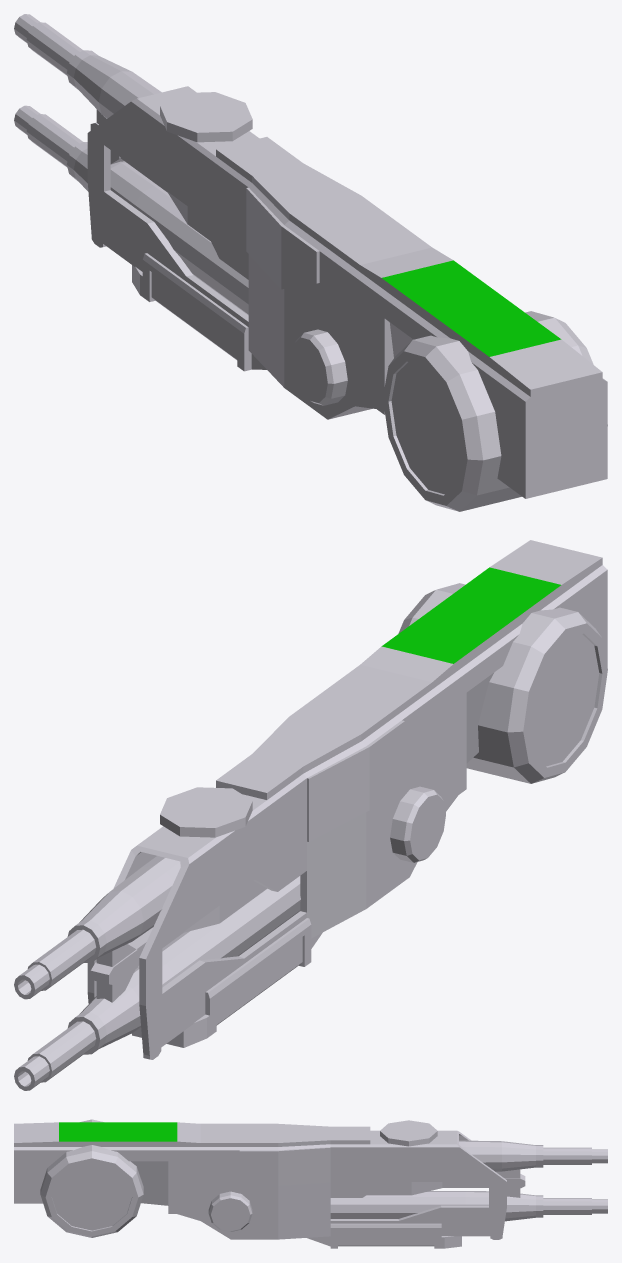
The model's file is hardpoitn.gun.dual.fbx.
3 renders of one model, top to bottom at view 1: azimuth 30°, elevation 25°; view 2: azimuth 150°, elevation 25°; view 3: azimuth 270°, elevation 25°, orthographic. The views are drawn at different scales.
Parts seen in each view (by area): view 1: hardpoitn.gun.dual; view 2: hardpoitn.gun.dual; view 3: hardpoitn.gun.dual.
Part boxes in pixels (<box>): hardpoitn.gun.dual: <box>14,14,607,511</box>; hardpoitn.gun.dual: <box>14,540,607,1090</box>; hardpoitn.gun.dual: <box>14,1119,607,1248</box>.
Size of the model in its own units: 0.2855 by 0.386 by 1.91.
